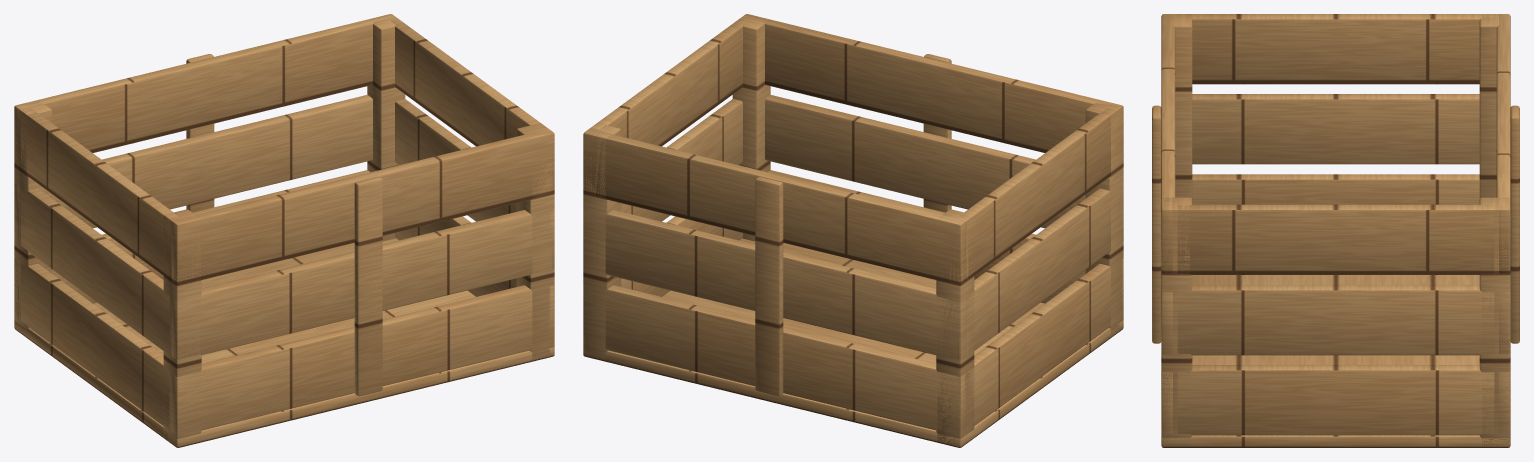
Rendered from SM_Crate_Wood.fbx.
3 views of the same model, side by side, from view 1: azimuth 30°, elevation 25°; view 2: azimuth 150°, elevation 25°; view 3: azimuth 270°, elevation 25° (orthographic). The views are drawn at different scales.
Visible parts, largest first — view 1: SM_Crate_Wood; view 2: SM_Crate_Wood; view 3: SM_Crate_Wood.
Part boxes in pixels (x1=…): SM_Crate_Wood: x1=14, y1=14, x2=554, y2=447; SM_Crate_Wood: x1=583, y1=14, x2=1123, y2=447; SM_Crate_Wood: x1=1152, y1=14, x2=1519, y2=447.
Size of what is drawn, in the model's own units: 0.6 by 0.34 by 0.474.
Materials: 1 (1 with a texture image).
